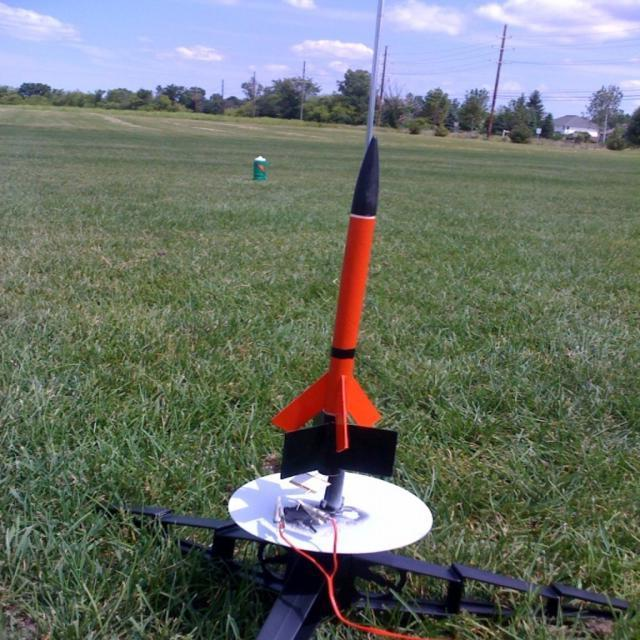missile: (272, 137, 392, 450)
